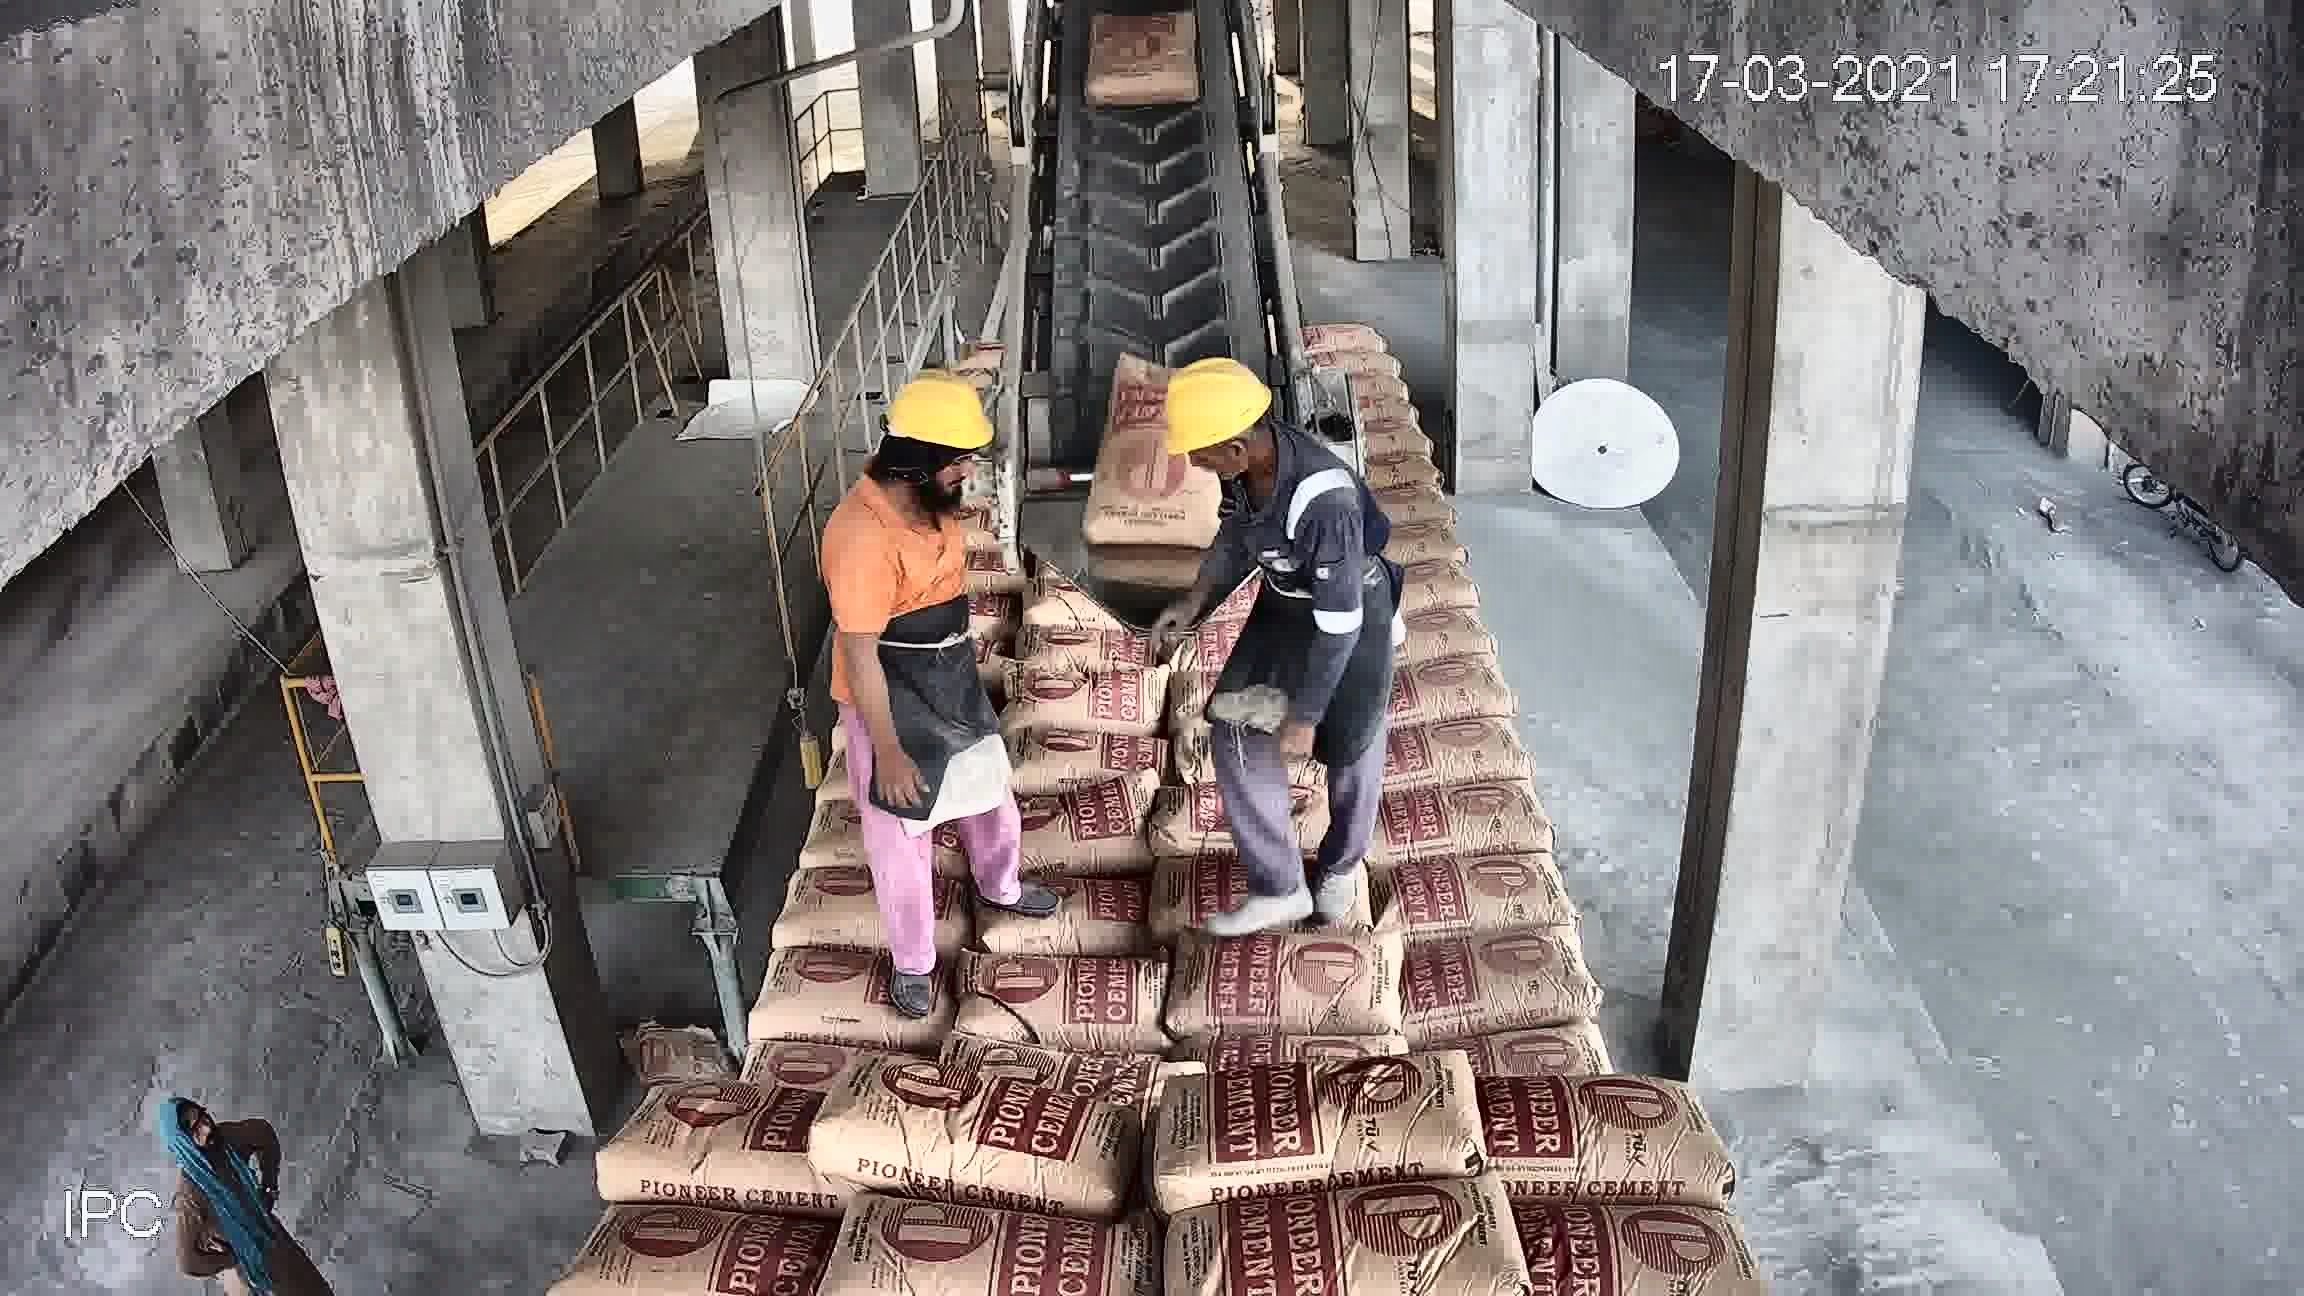bag_h: (1120, 1166, 1537, 1296), (1154, 1054, 1497, 1207), (1120, 942, 1457, 1084), (1152, 829, 1421, 975), (1119, 714, 1396, 855), (813, 1078, 1152, 1192), (1491, 1060, 1737, 1212), (862, 942, 1143, 1068), (1442, 945, 1698, 1079), (820, 1192, 1161, 1287), (631, 949, 866, 1082), (1418, 842, 1644, 976), (669, 858, 911, 968), (1525, 1198, 1783, 1296), (1381, 752, 1595, 855), (609, 1087, 798, 1203), (907, 859, 1143, 949), (535, 1222, 818, 1294), (908, 753, 1149, 836), (722, 771, 892, 867), (1391, 698, 1552, 780), (1033, 652, 1166, 731), (1022, 707, 1166, 769), (1176, 516, 1301, 585), (1388, 650, 1503, 725), (915, 530, 1048, 592), (1032, 582, 1184, 631), (1163, 571, 1282, 627), (877, 513, 1033, 551), (1161, 616, 1247, 669), (1169, 674, 1247, 733), (910, 473, 1010, 514), (1033, 548, 1161, 578), (1033, 630, 1176, 657), (923, 438, 1003, 484)
belt: (1022, 0, 1296, 492)
